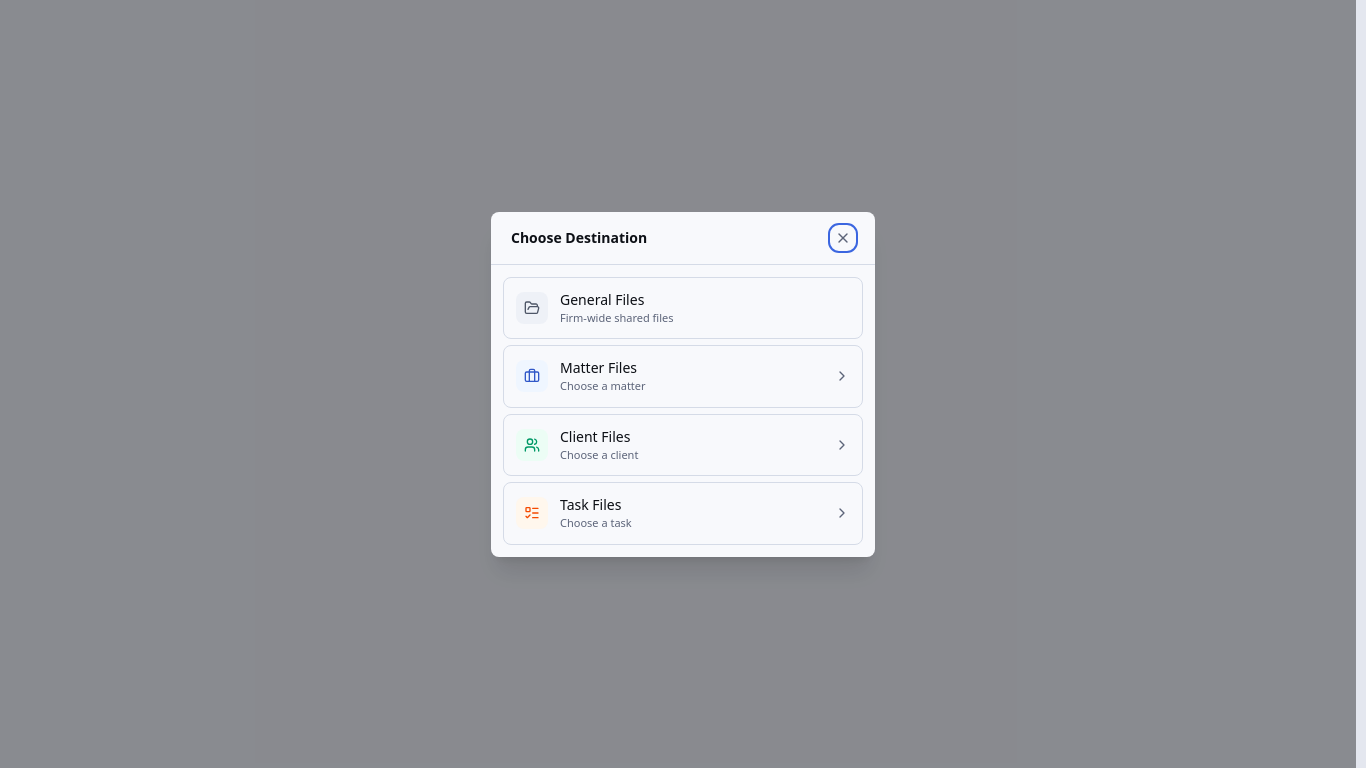
Scenario: DestinationPickerModal source list › shows no note when the lookup returned the complete list
The width and height of the screenshot is (1366, 768).
Click the text "Matter Files" at (599, 368), box [560,358,637,377]
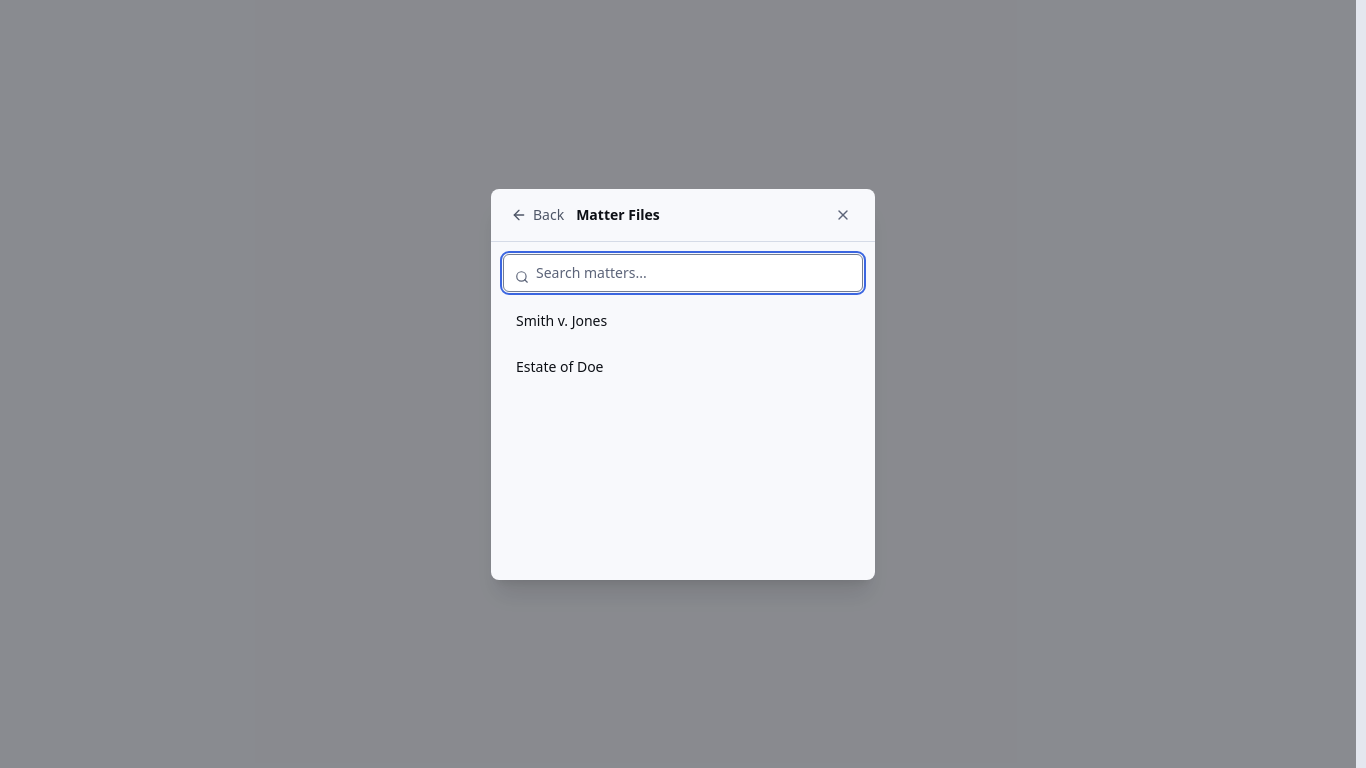
Expected: the text "Smith v. Jones" is shown, [516,310,607,330]
